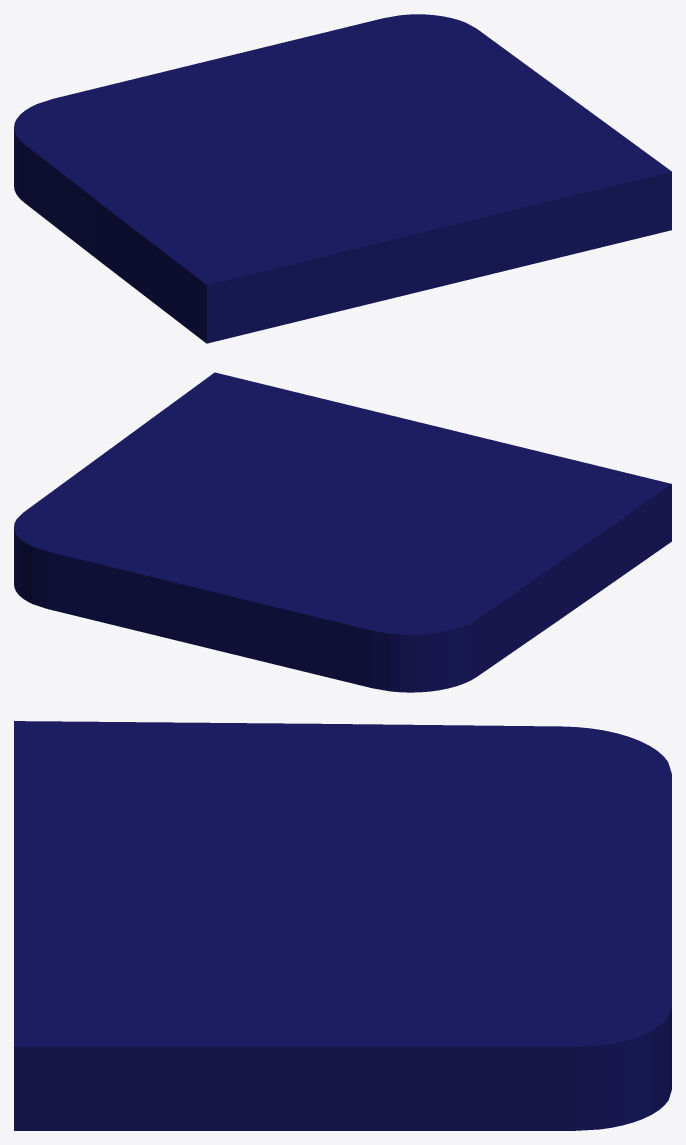
File: original-6.obj
3 renders of one model, top to bottom at view 1: azimuth 30°, elevation 25°; view 2: azimuth 150°, elevation 25°; view 3: azimuth 270°, elevation 25°, orthographic. The views are drawn at different scales.
Parts seen in each view (by area): view 1: mesh5/mesh5-geometry#mesh5-geometry; view 2: mesh5/mesh5-geometry#mesh5-geometry; view 3: mesh5/mesh5-geometry#mesh5-geometry.
Boxes of the visible parts, left/top/right/bottom form: mesh5/mesh5-geometry#mesh5-geometry: left=14, top=14, right=671, bottom=343; mesh5/mesh5-geometry#mesh5-geometry: left=14, top=372, right=671, bottom=692; mesh5/mesh5-geometry#mesh5-geometry: left=14, top=721, right=671, bottom=1130.
Bounding box in the file's own units: 0.0776 × 0.00934 × 0.0662.
